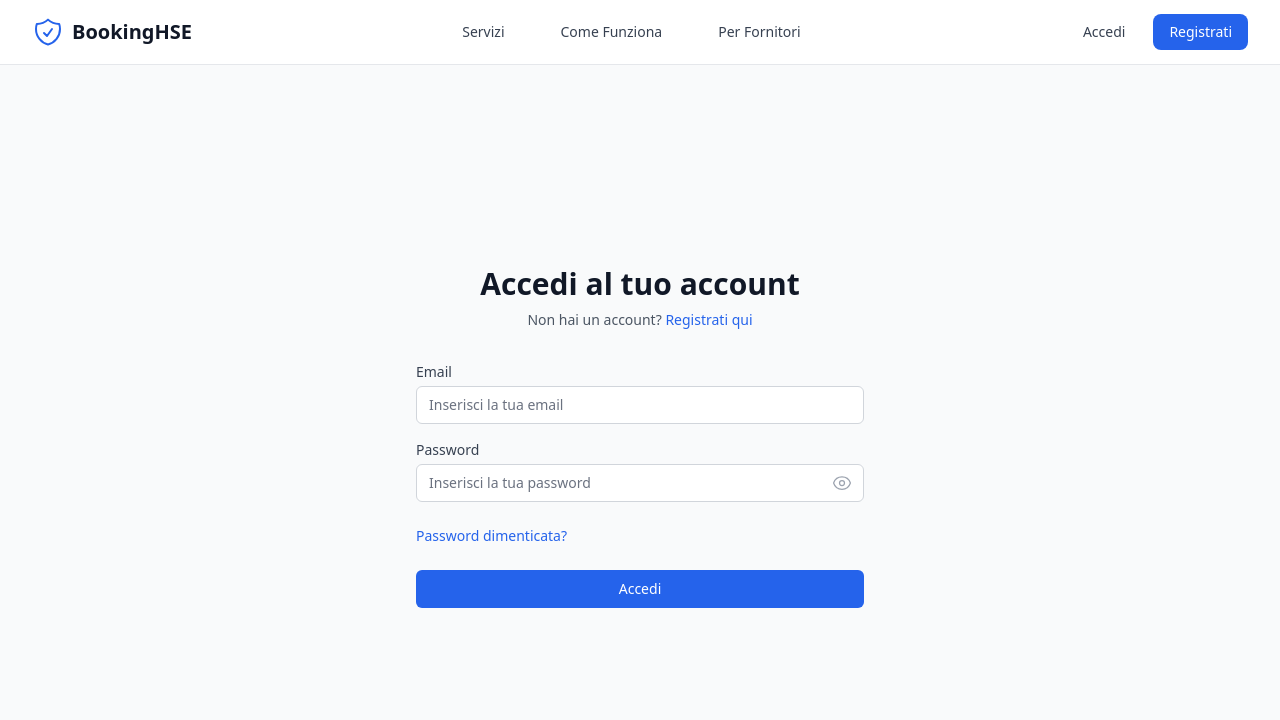
Scenario: LoginPage › shows validation errors for empty fields
Click the button "Accedi": (640, 589) [416,570,864,608]
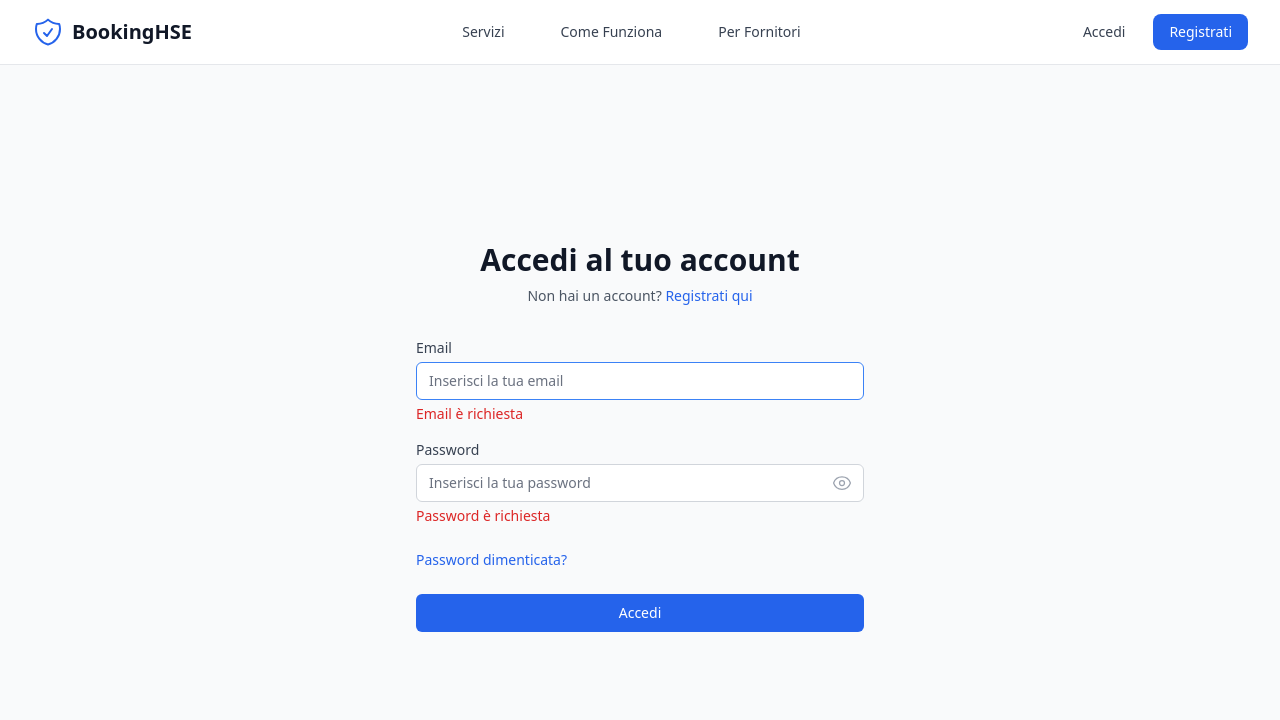
Now the text "Email è richiesta" is shown, box [416,404,523,423]
Now the text "Password è richiesta" is shown, box [416,506,550,525]
